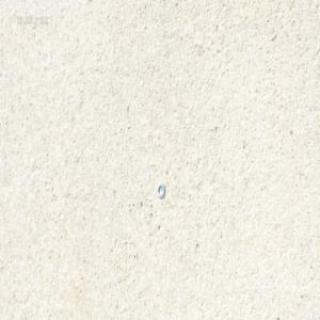Washertrack_idkeyframe: (156, 182, 164, 198)
